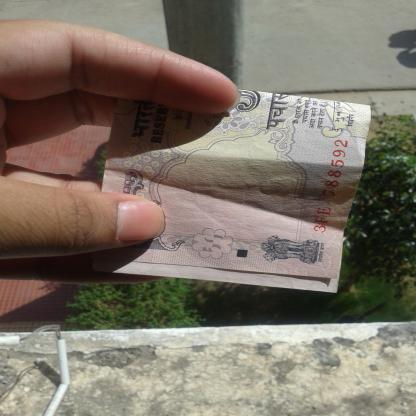Old50Front: (87, 90, 374, 294)
